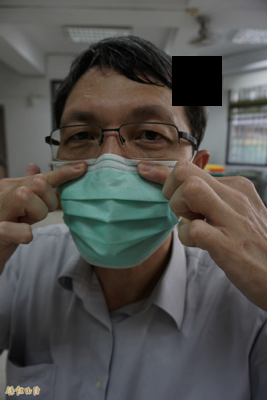with_mask: (53, 100, 198, 267)
